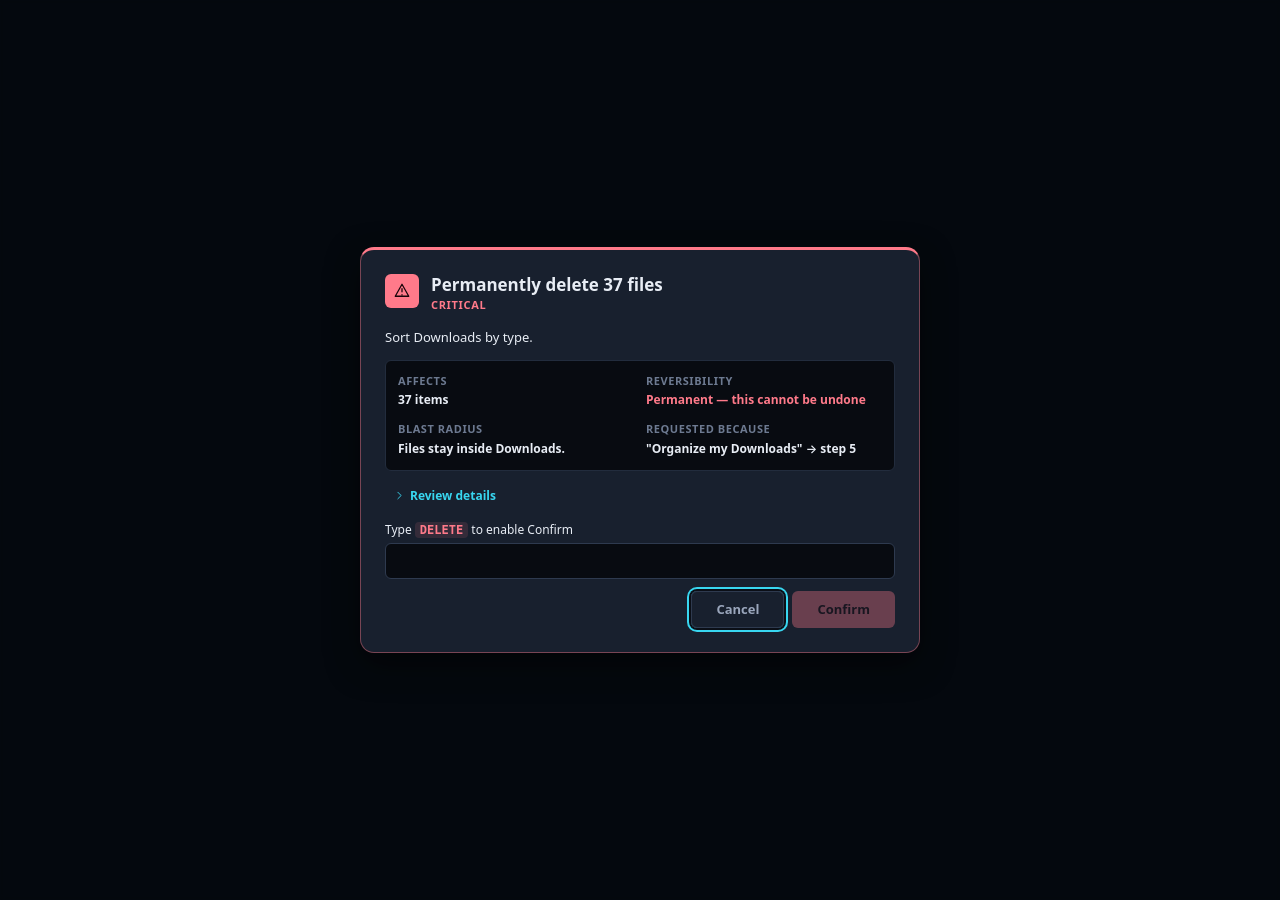
Test: ConsentDialog › keeps Confirm disabled until the exact phrase is typed
Expected: the button "Confirm" is disabled, [792,590,895,628]
Expected: the text "Remember this decision" is not shown
Type "delete" into the field named "type delete to confirm" at (640, 560), box [385,542,895,578]
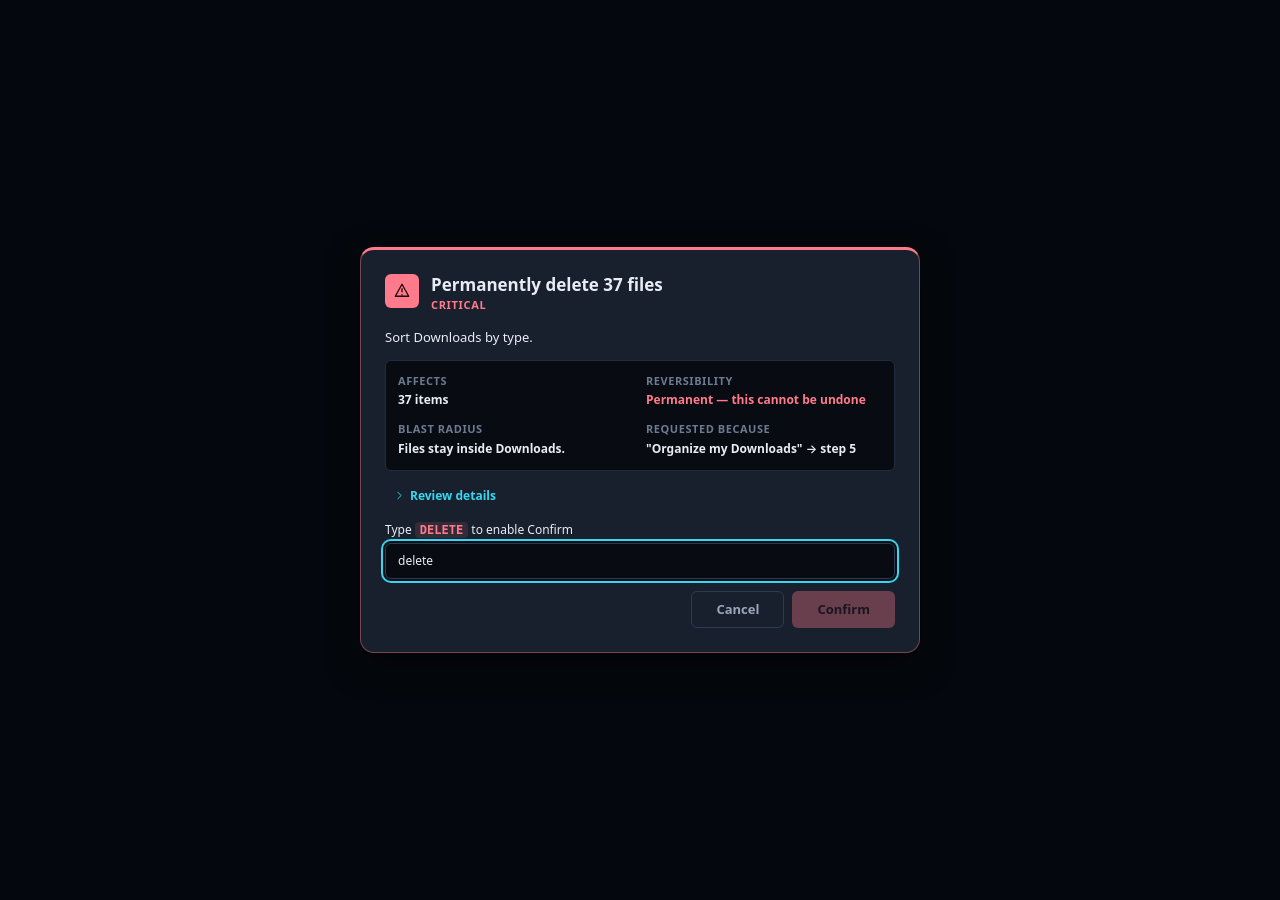
Expected: the button "Confirm" is disabled, [792,590,895,628]
Replace the text in the field named "type delete to confirm" with "DELETE" at (640, 560), box [385,542,895,578]
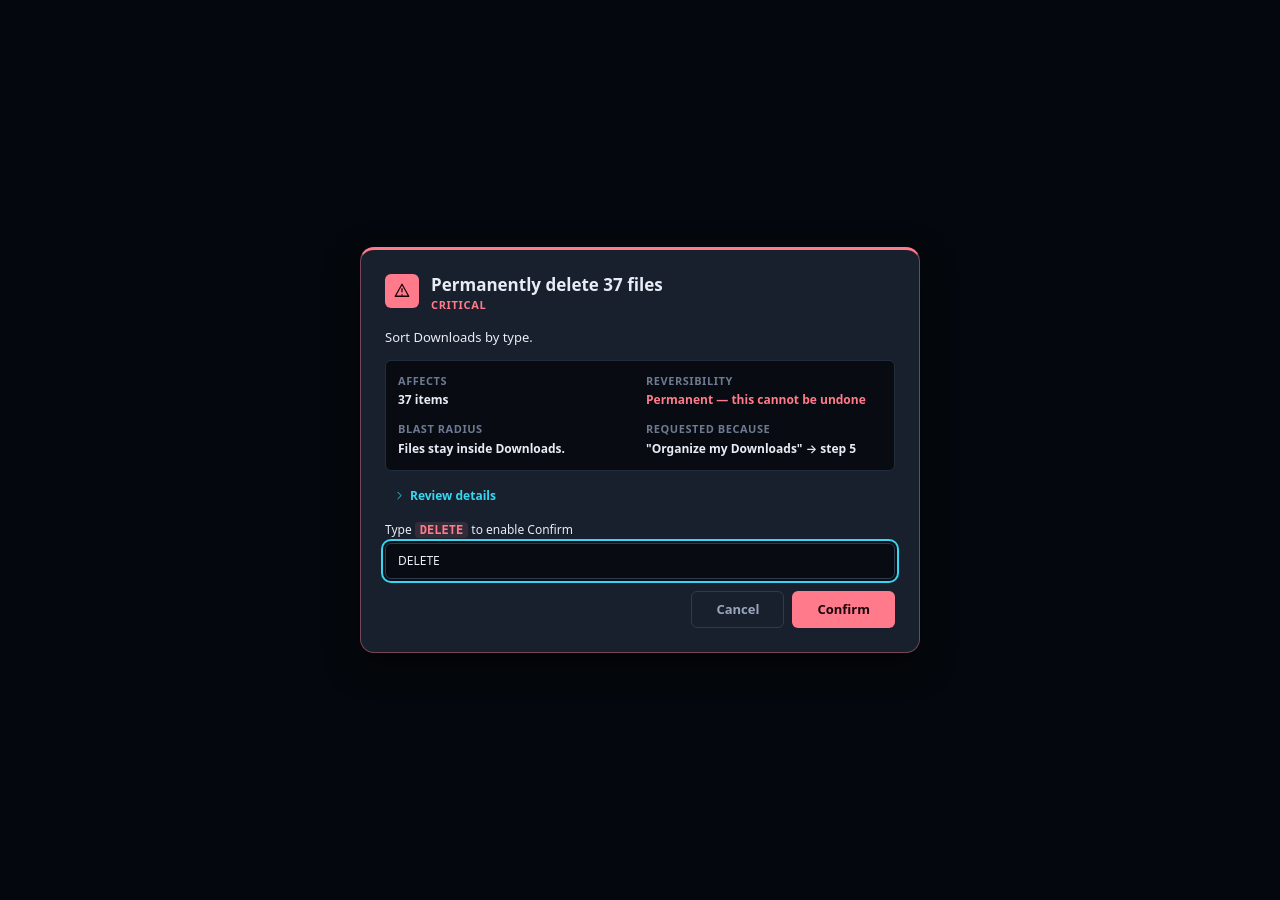
Result: the button "Confirm" is enabled at [792,590,895,628]
